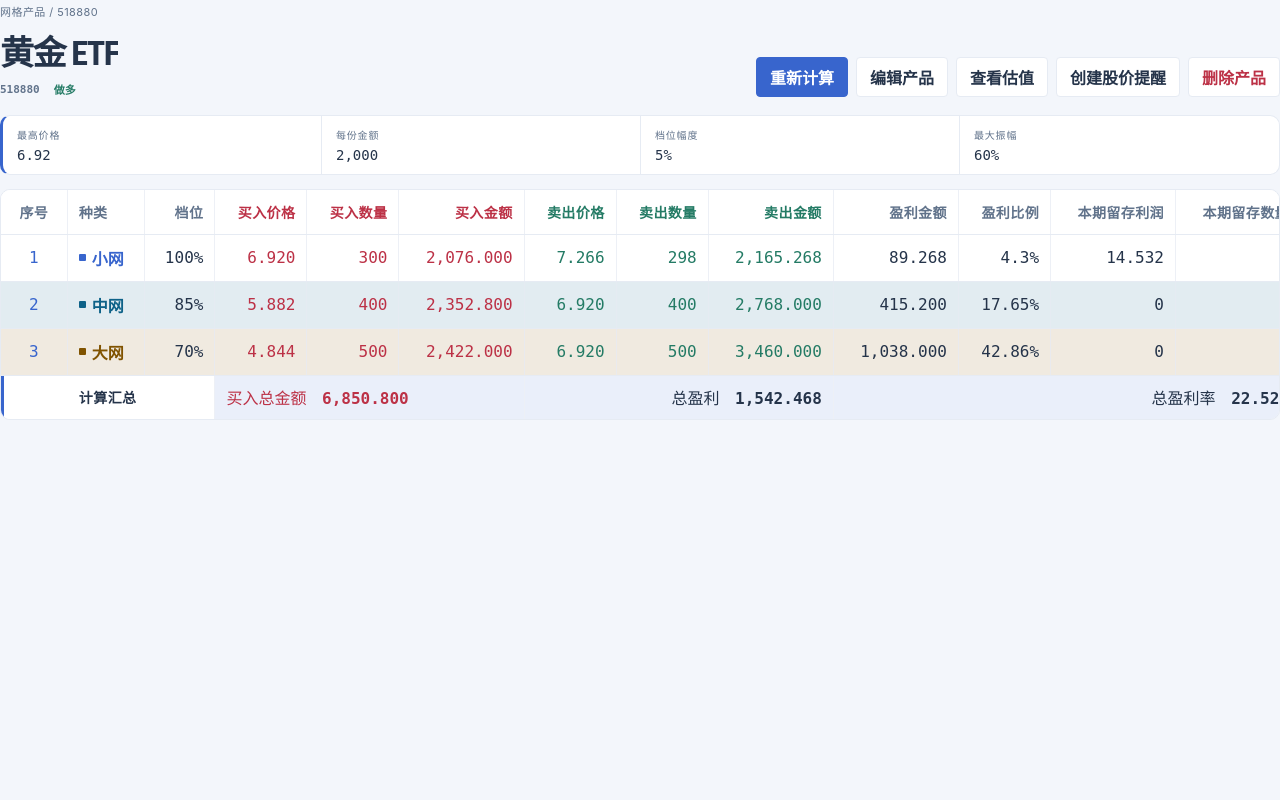
Scenario: GridDetailView › opens a row and moves through calculation items with bounded controls
Click the button named "查看第 1 笔明细" at (34, 258), box [17,242,51,272]
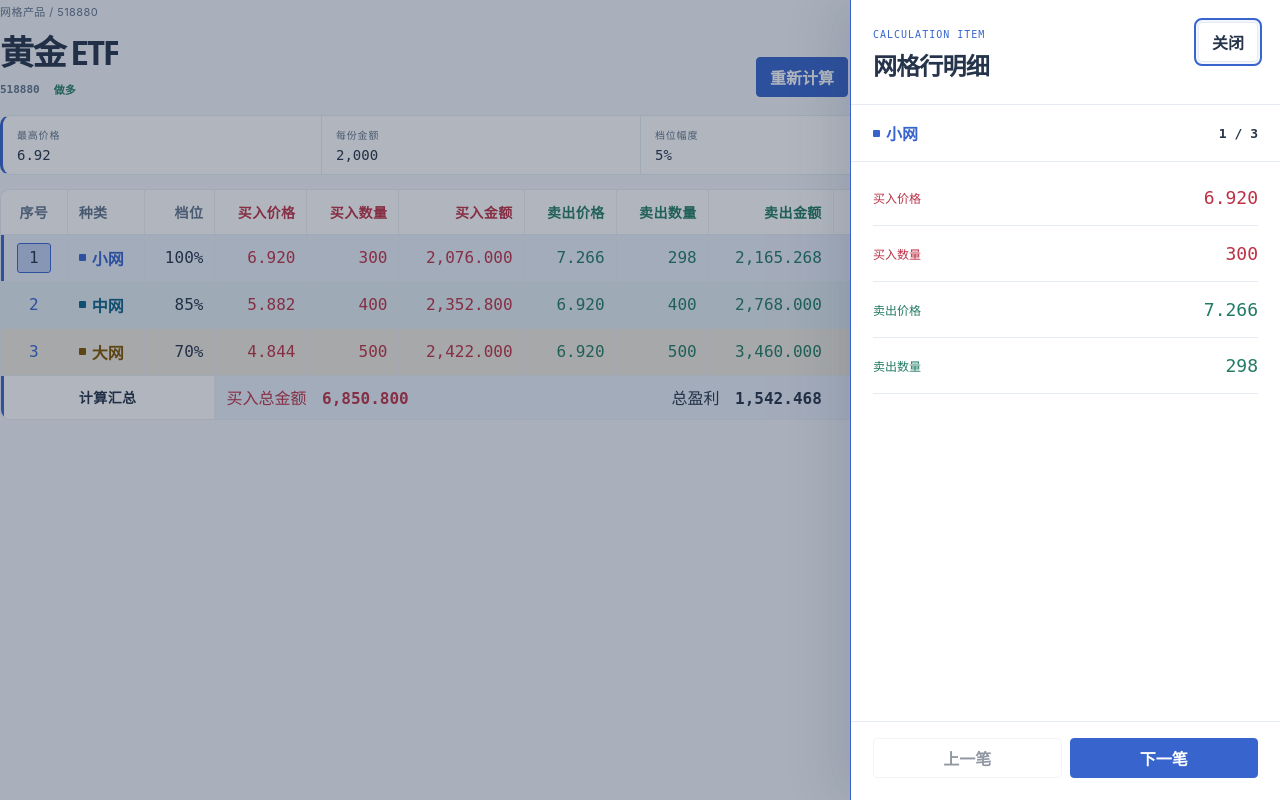
Result: the dialog "网格行明细" shows "1 / 3" at [850,0,1279,799]
Result: the button "上一笔" is disabled at [873,738,1062,778]
Click the button "下一笔" at (1164, 758), box [1070,738,1258,778]
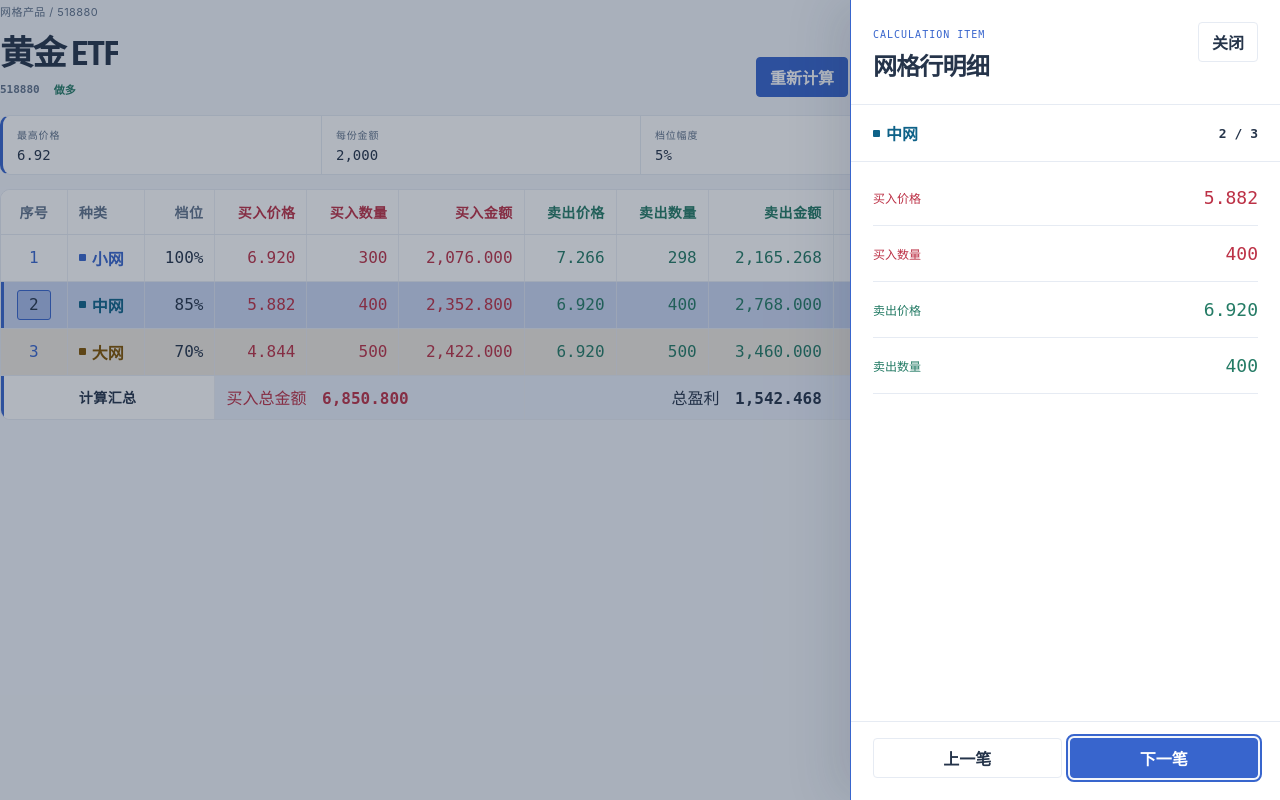
Result: the dialog "网格行明细" shows "2 / 3" at [850,0,1279,799]
Click the button "下一笔" at (1164, 758), box [1070,738,1258,778]
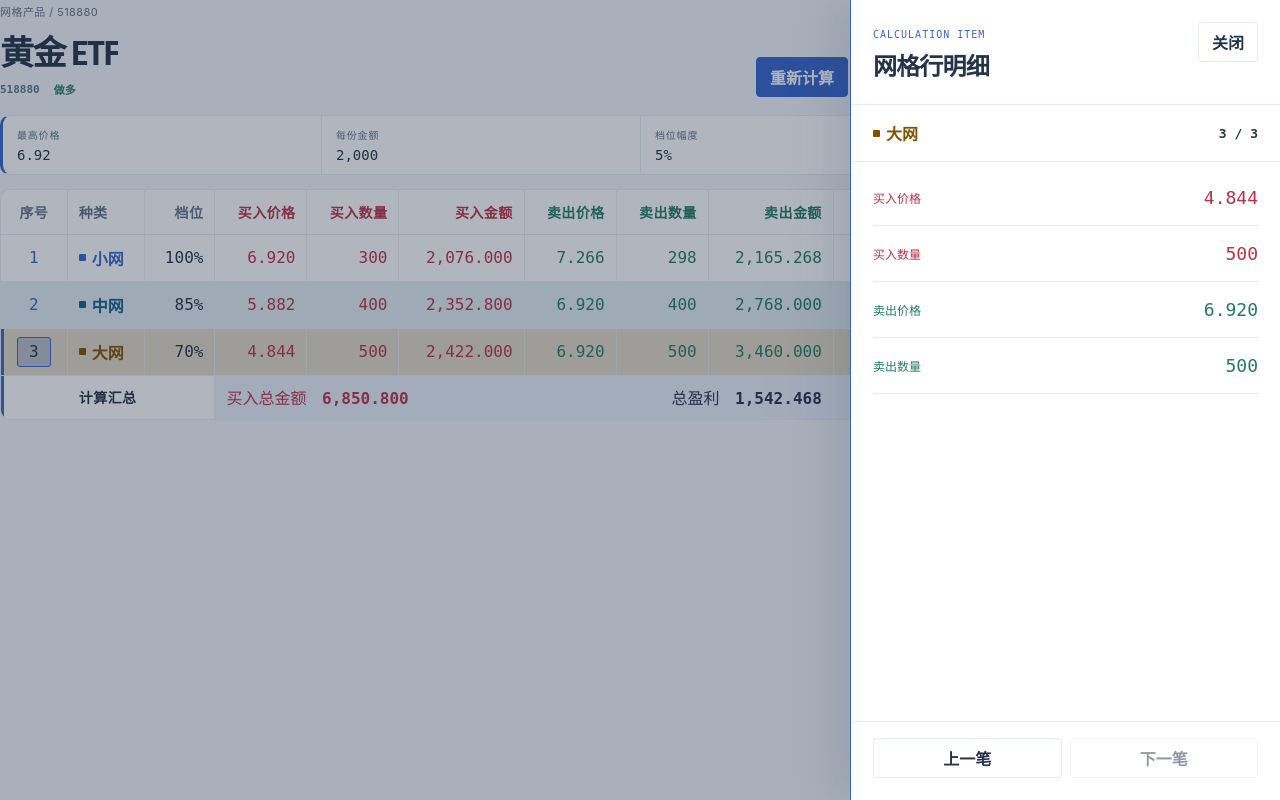
Result: the dialog "网格行明细" shows "3 / 3" at [850,0,1279,799]
Result: the button "下一笔" is disabled at [1070,738,1258,778]
